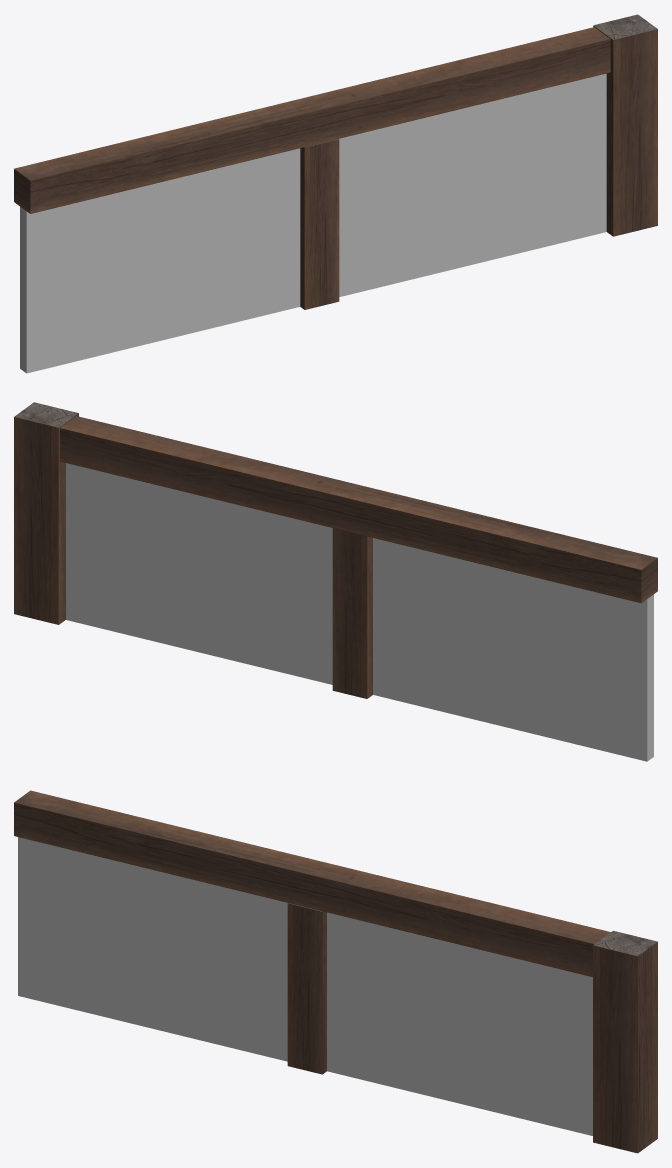
File: jov_lowwall_1.5t03.fbx
The picture shows the model from 3 angles, top to bottom: view 1: azimuth 30°, elevation 25°; view 2: azimuth 150°, elevation 25°; view 3: azimuth 330°, elevation 25°; orthographic projection.
Visible parts, largest first — view 1: jov_lowwall_1.5t03; view 2: jov_lowwall_1.5t03; view 3: jov_lowwall_1.5t03.
Boxes of the visible parts, bbox=[...] form: jov_lowwall_1.5t03: bbox=[14, 14, 657, 373]; jov_lowwall_1.5t03: bbox=[14, 402, 657, 761]; jov_lowwall_1.5t03: bbox=[14, 790, 657, 1153].
Size of the model in its own units: 334 by 101 by 18.59.
